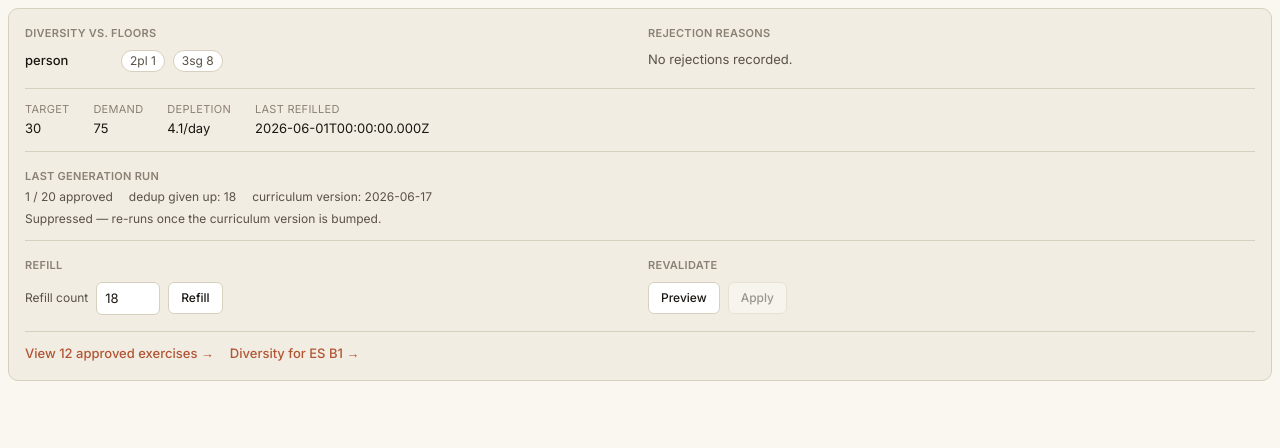
Test: PoolCellDetail — revalidate › shows a truncation note mentioning revalidate:cloze and the total
This screenshot has width=1280, height=448.
Step 1. Click the button "Preview" → [684, 298], box [648,282,720,314]
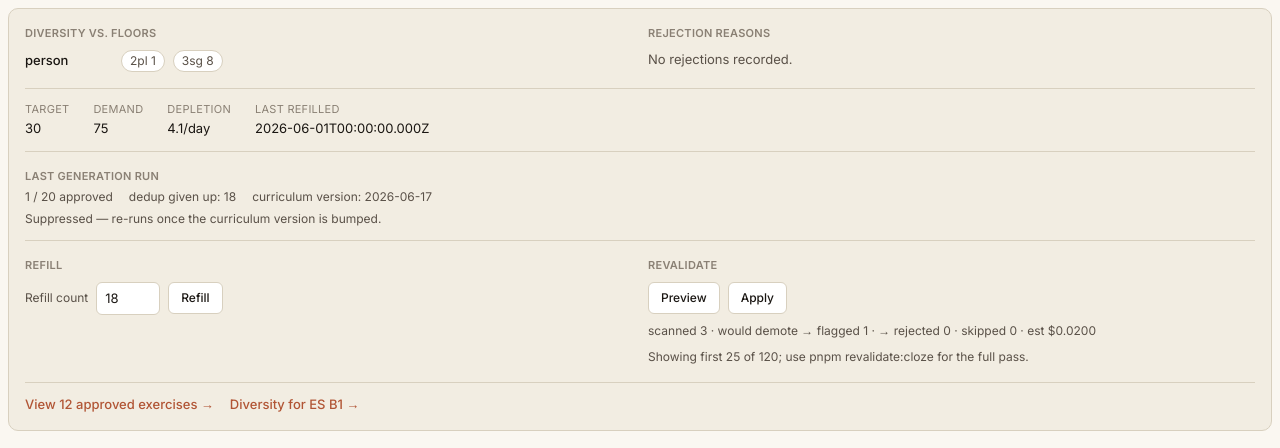
Expected: the text "revalidate:cloze" shows "120", [759,348,778,364]
